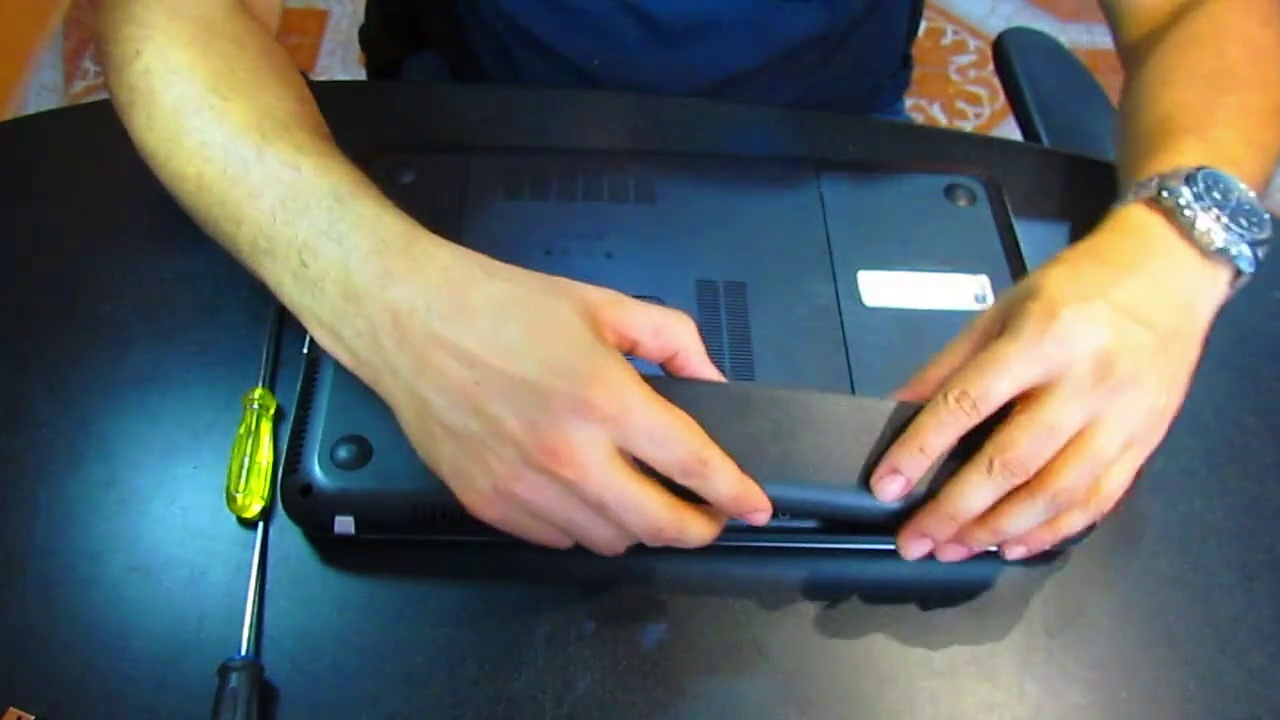screwdriver: (222, 300, 288, 522), (209, 520, 273, 720)
